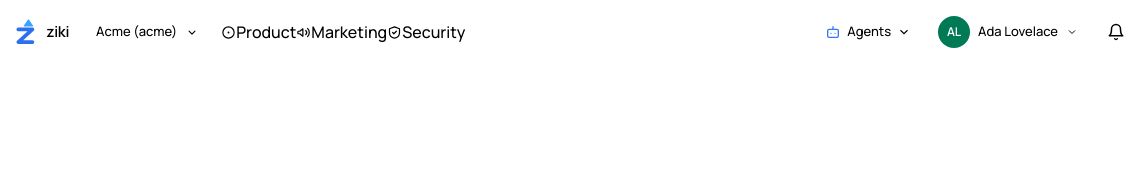
account menu role switch › shows the slug when two workspaces share a name
Step 1. Click the button named "active workspace, acme (acme)" → coordinates (150, 32), box [90,17,209,47]
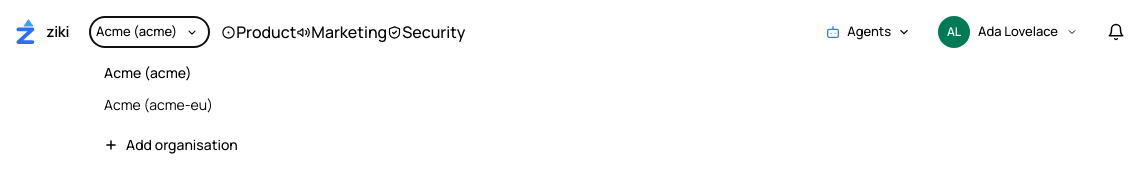
Expected: the option "Acme (acme)" is shown, [96,57,324,89]
Expected: the option "Acme (acme-eu)" is shown, [96,89,324,121]
